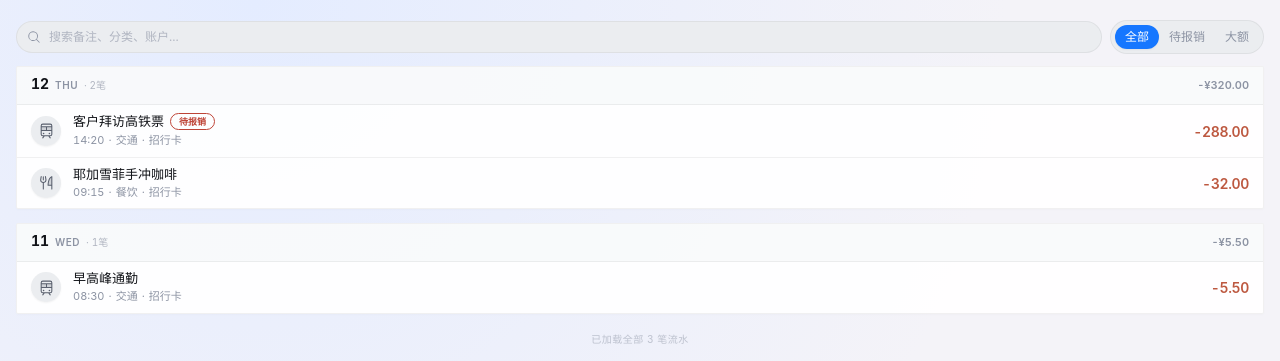
it: TransactionGroup component › displays full specific dates in group header when searching
In the field with placeholder "搜索备注、分类、账户...": (570, 37) [49,29,1091,45], type "咖啡"
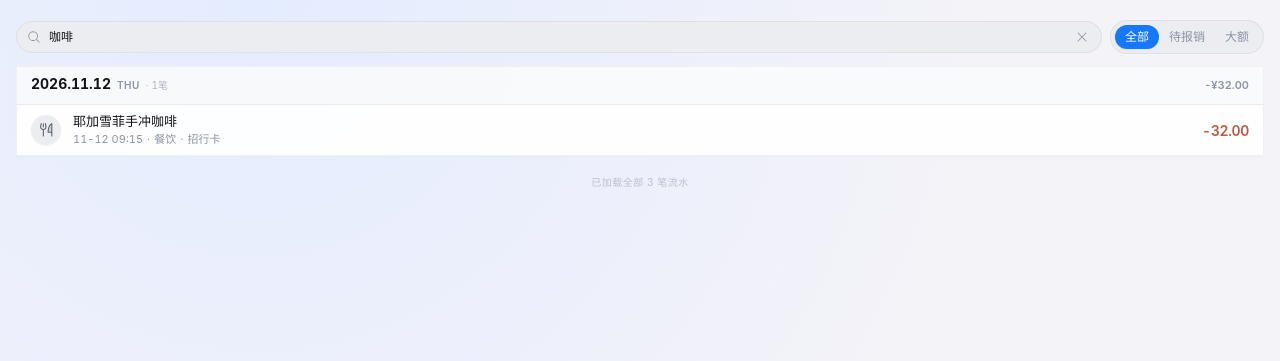
Expected: the text "耶加雪菲手冲咖啡" is shown, [73,112,177,129]
Now the text "2026.11.12" is shown, box [31,77,111,91]
